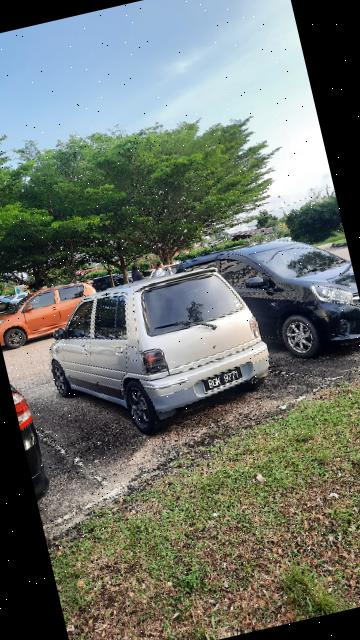License_Plate: (203, 362, 261, 399)
car: (34, 258, 279, 447), (168, 216, 360, 384), (1, 261, 119, 356)
